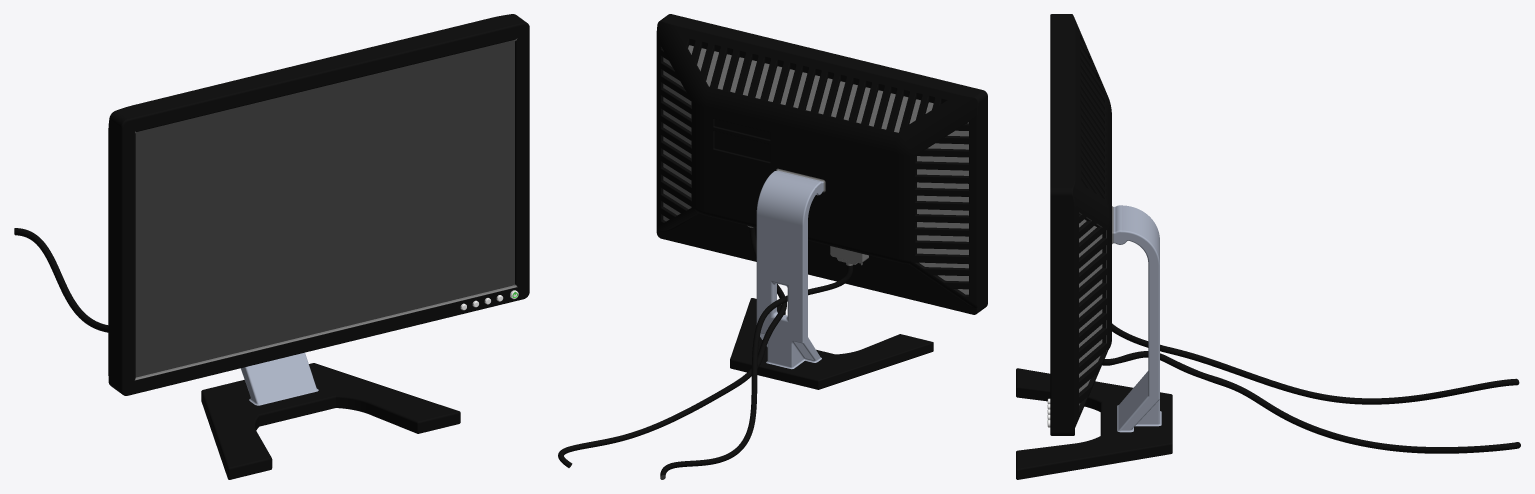
The model's file is LCD Display.fbx.
3 renders of one model, left to right at view 1: azimuth 30°, elevation 25°; view 2: azimuth 150°, elevation 25°; view 3: azimuth 270°, elevation 25°, orthographic. The views are drawn at different scales.
Visible parts, largest first — view 1: LCD Display (×6); view 2: LCD Display (×6); view 3: LCD Display (×6).
Part boxes in pixels (<box>): LCD Display (×6): <box>14,14,529,479</box>; LCD Display (×6): <box>558,14,987,476</box>; LCD Display (×6): <box>1016,14,1520,479</box>.
Bounding box in the file's own units: 638 × 549 × 762.
